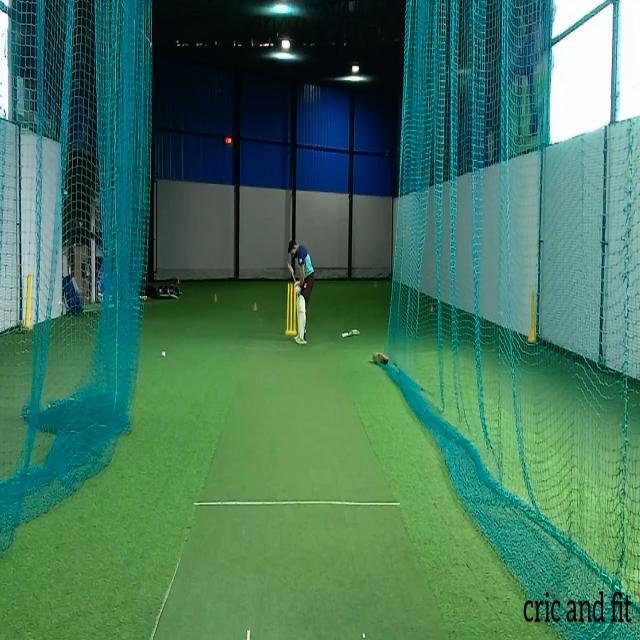batsman: (287, 237, 315, 345)
